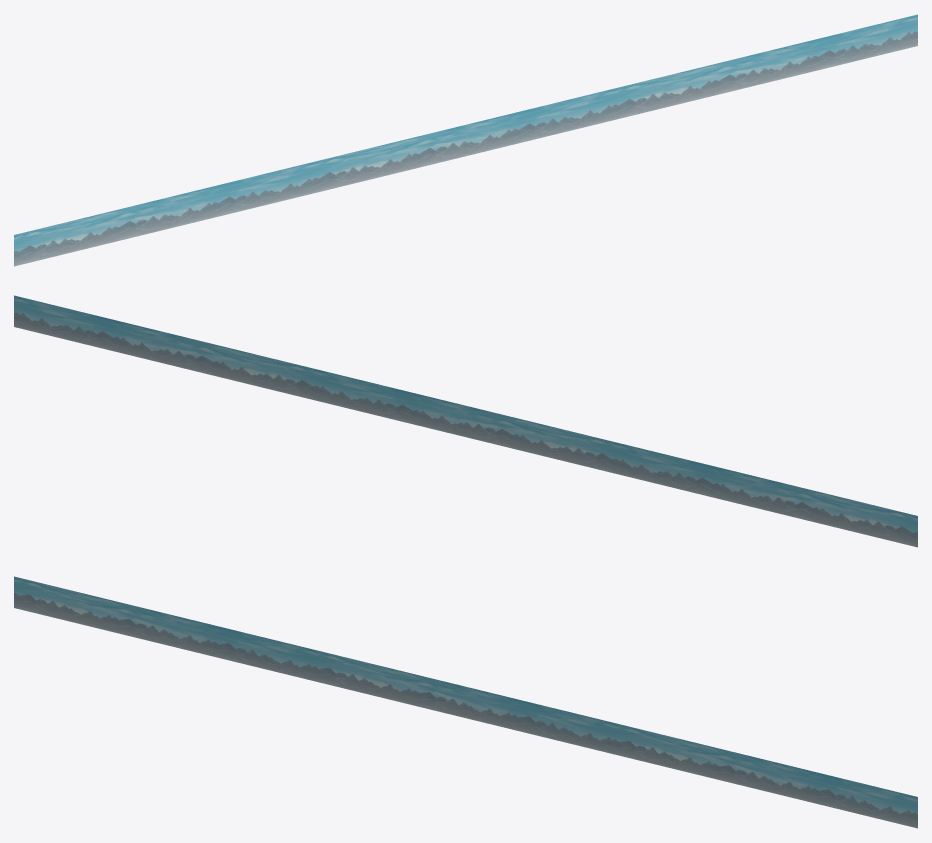
Rendered from test_stage01_bg_b_02.fbx.
3 views of the same model, one above another, from view 1: azimuth 30°, elevation 25°; view 2: azimuth 150°, elevation 25°; view 3: azimuth 330°, elevation 25° (orthographic).
Visible parts, largest first — view 1: pPlane1; view 2: pPlane1; view 3: pPlane1.
Part boxes in pixels (x1,y1,x2,y2): pPlane1: (14,14,917,266); pPlane1: (14,295,917,547); pPlane1: (14,576,917,828).
Bounding box in the file's own units: 9000 × 300 × 4.82e-14.
